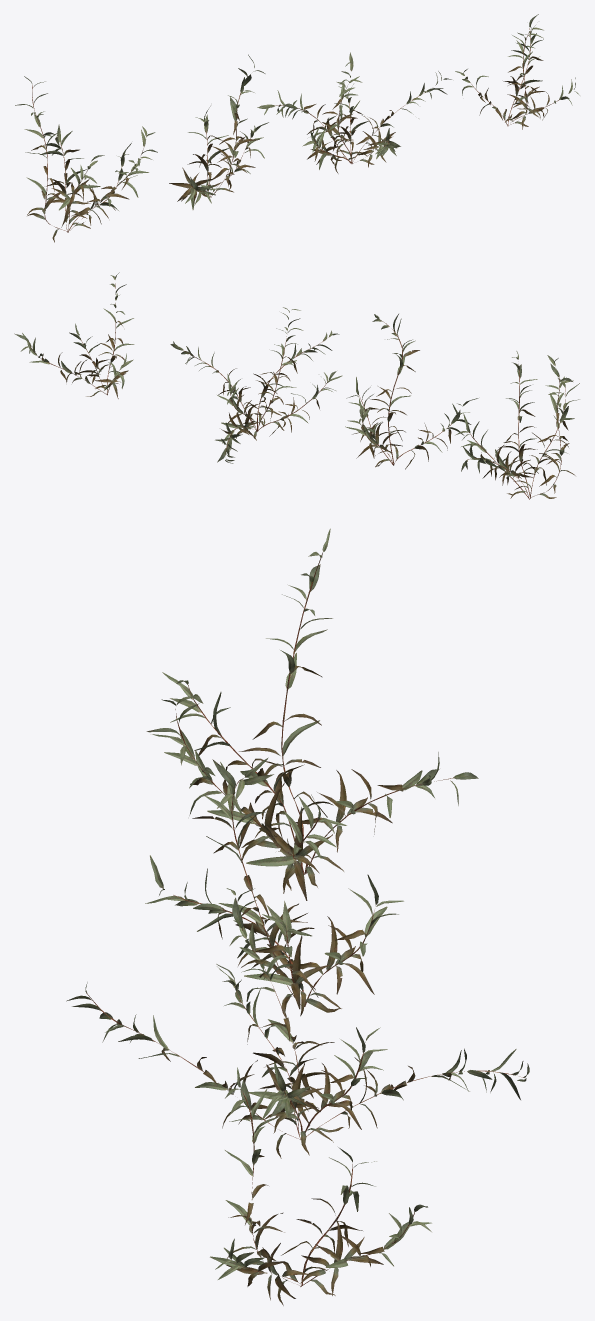
Rendered from glb_shrub2.5d5aeb5f.glb.
The picture shows the model from 3 angles, top to bottom: view 1: azimuth 30°, elevation 25°; view 2: azimuth 150°, elevation 25°; view 3: azimuth 270°, elevation 25°; orthographic projection. The views are drawn at different scales.
Parts seen in each view (by area): view 1: shrub_02_a; view 2: shrub_02_a; view 3: shrub_02_a.
Boxes of the visible parts, x1,y1,x2,y2 form: shrub_02_a: (15, 14, 579, 242); shrub_02_a: (14, 272, 579, 499); shrub_02_a: (66, 528, 529, 1305).
Bounding box in the file's own units: 6.05 × 1.7 × 2.29.
1 material, 1 textured.
